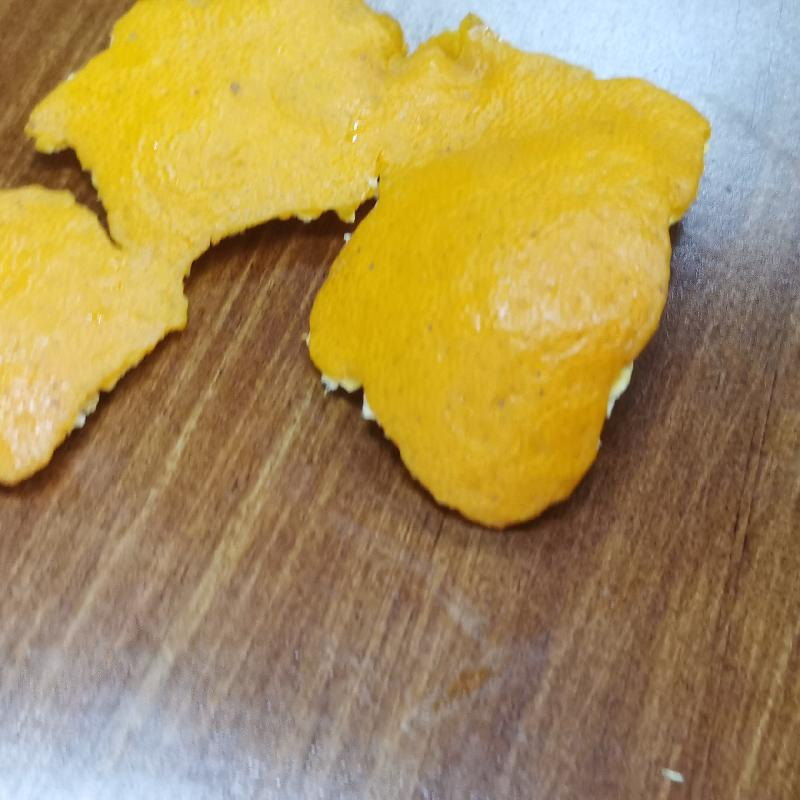orange: (2, 5, 702, 528)
